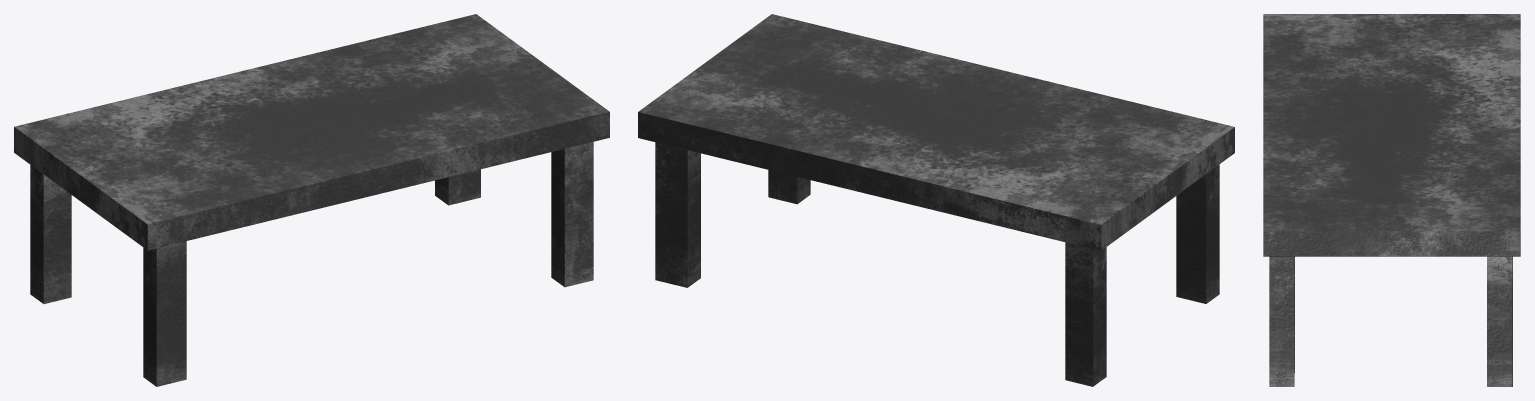
File: Long_Table.fbx
3 views of the same model, side by side, from view 1: azimuth 30°, elevation 25°; view 2: azimuth 150°, elevation 25°; view 3: azimuth 270°, elevation 25° (orthographic). The views are drawn at different scales.
Parts seen in each view (by area): view 1: Long_Table; view 2: Long_Table; view 3: Long_Table.
Part boxes in pixels (x1=…): Long_Table: x1=14, y1=14, x2=609, y2=386; Long_Table: x1=638, y1=14, x2=1234, y2=386; Long_Table: x1=1263, y1=14, x2=1520, y2=386.
Size of the model in its own units: 36.76 by 12.75 by 18.4.
1 material, 1 textured.
